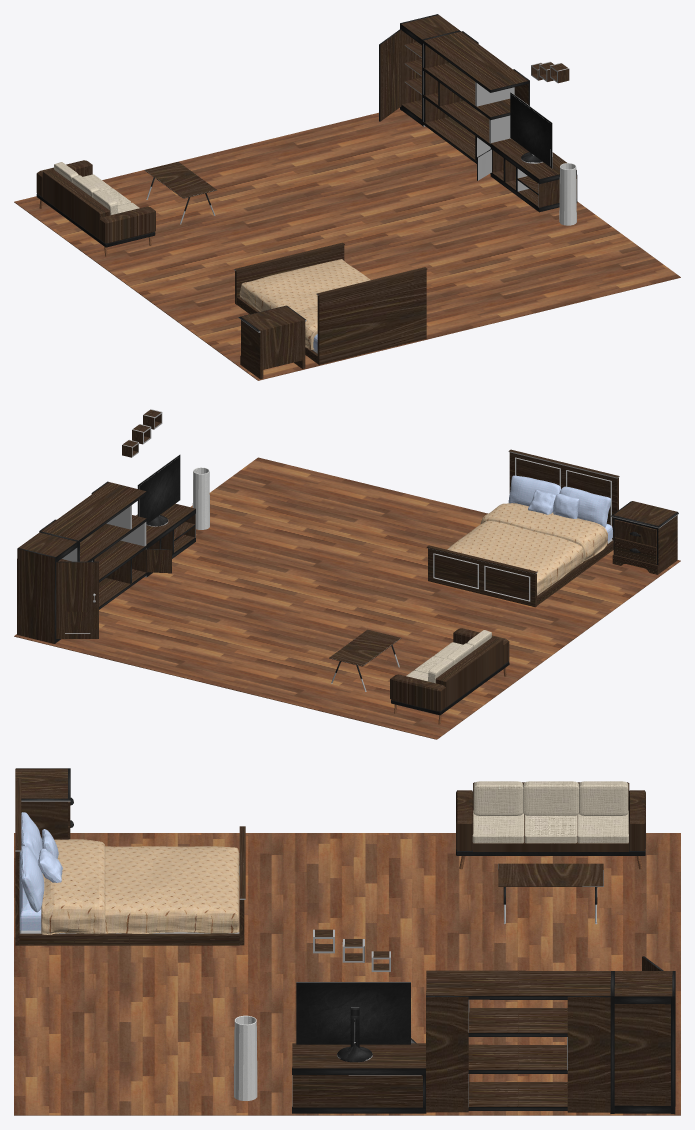
The model's file is T2 Set 2 Pos 9.glb.
3 renders of one model, top to bottom at view 1: azimuth 30°, elevation 25°; view 2: azimuth 150°, elevation 25°; view 3: azimuth 270°, elevation 25°, orthographic. The views are drawn at different scales.
Size of the model in its own units: 0.2923 by 0.0855 by 0.292.
9 materials, 8 textured.
